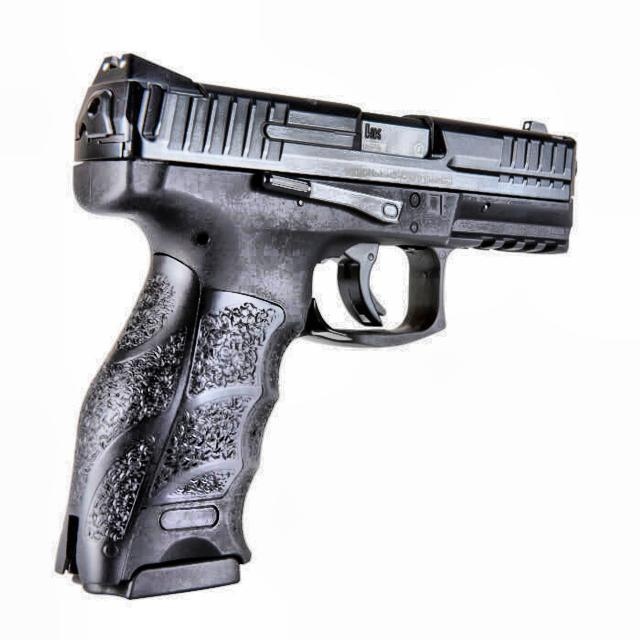HKVP9: (53, 50, 579, 600)
